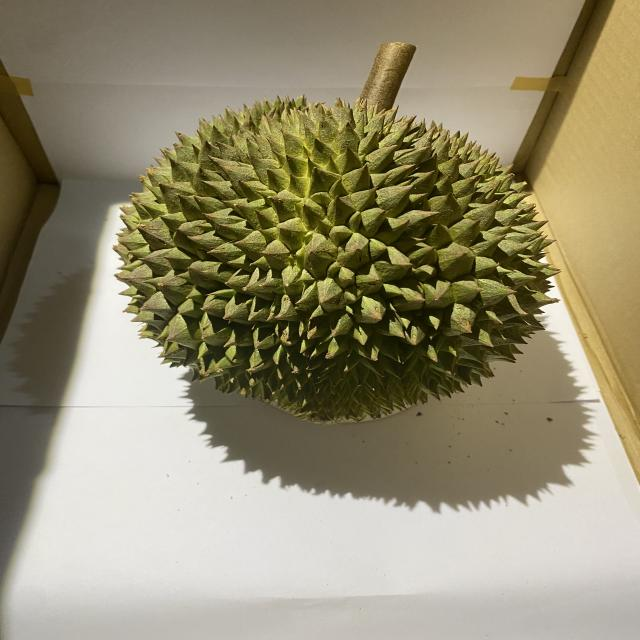immature: (108, 94, 568, 426)
